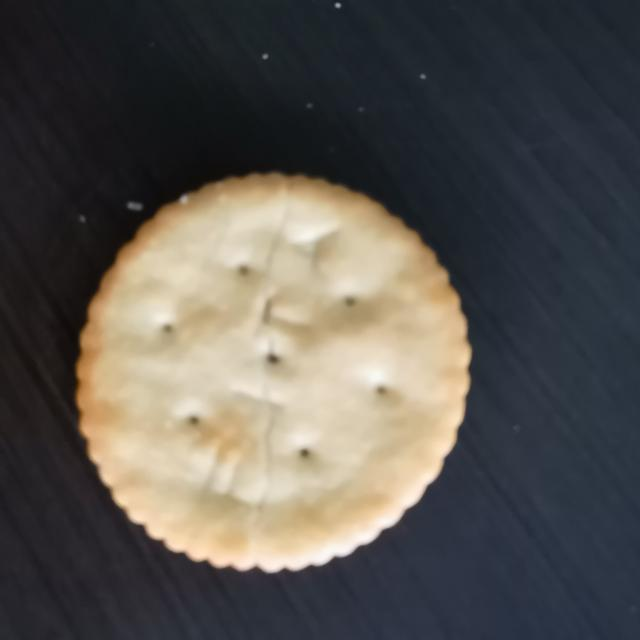Fracture: (230, 173, 311, 573)
